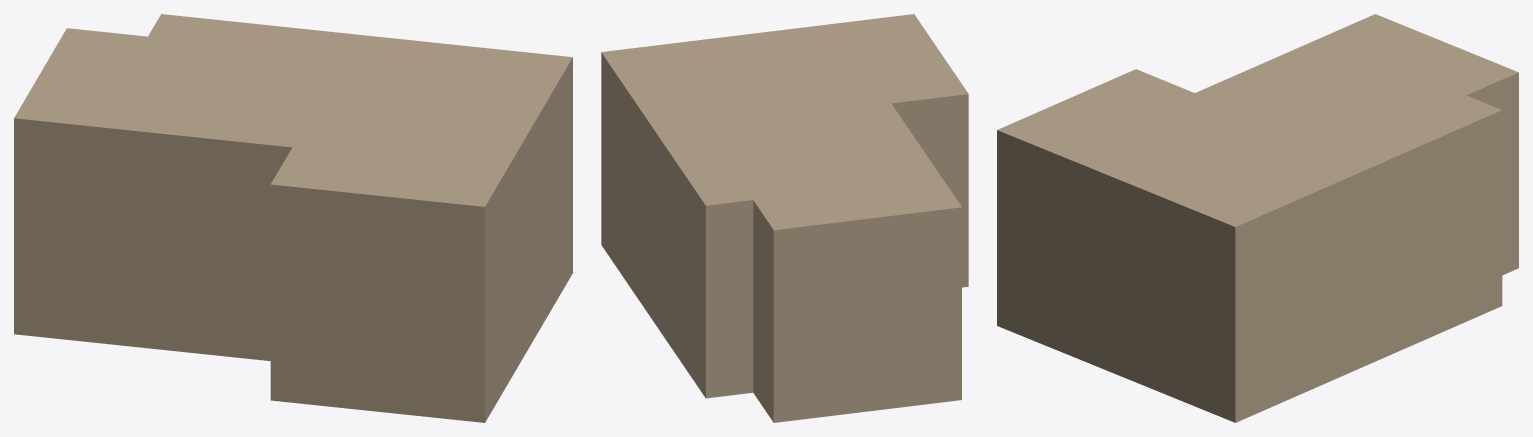
The model's file is bld_101289714.dae.
3 views of the same model, side by side, from view 1: azimuth 30°, elevation 25°; view 2: azimuth 150°, elevation 25°; view 3: azimuth 270°, elevation 25° (orthographic). The views are drawn at different scales.
Parts seen in each view (by area): view 1: bld_101289714; view 2: bld_101289714; view 3: bld_101289714.
Boxes of the visible parts, bbox=[...] form: bld_101289714: bbox=[14, 14, 572, 422]; bld_101289714: bbox=[601, 14, 968, 422]; bld_101289714: bbox=[997, 14, 1518, 422].
Size of the model in its own units: 18.67 by 19.32 by 8.
